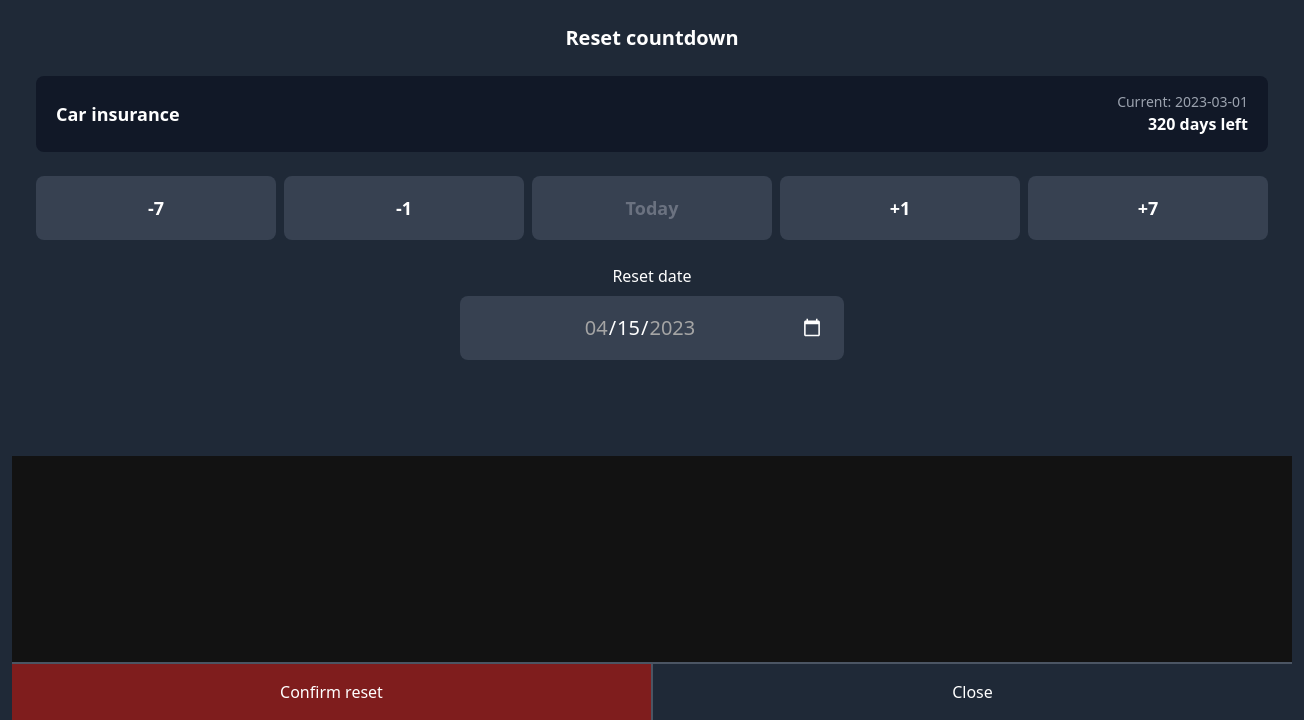
Scenario: CountdownResetBody › should disable a complete step when it would exceed the date range
Step 1. Type "2023-04-25" into the date field labelled "Reset date" → x=652, y=328, box [460,296,844,360]
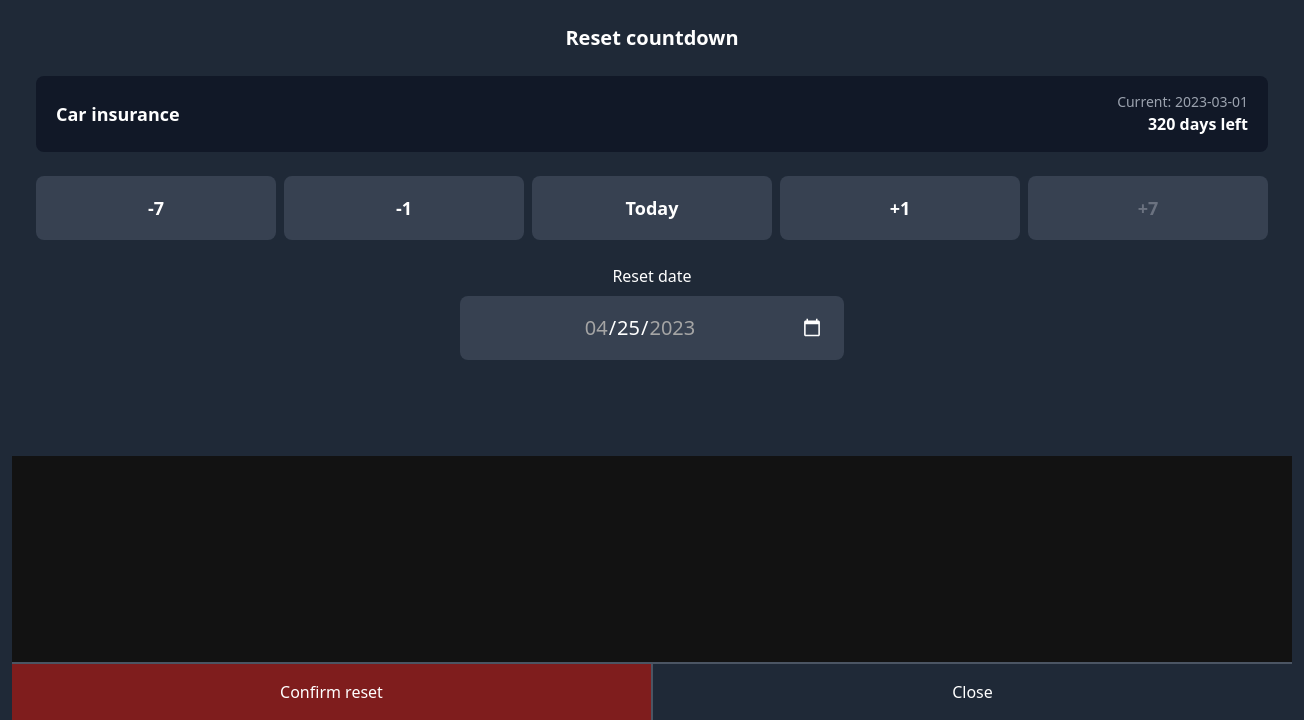
Expected: the button "+1" is enabled, [780,176,1020,240]
Expected: the button "+7" is disabled, [1028,176,1268,240]
